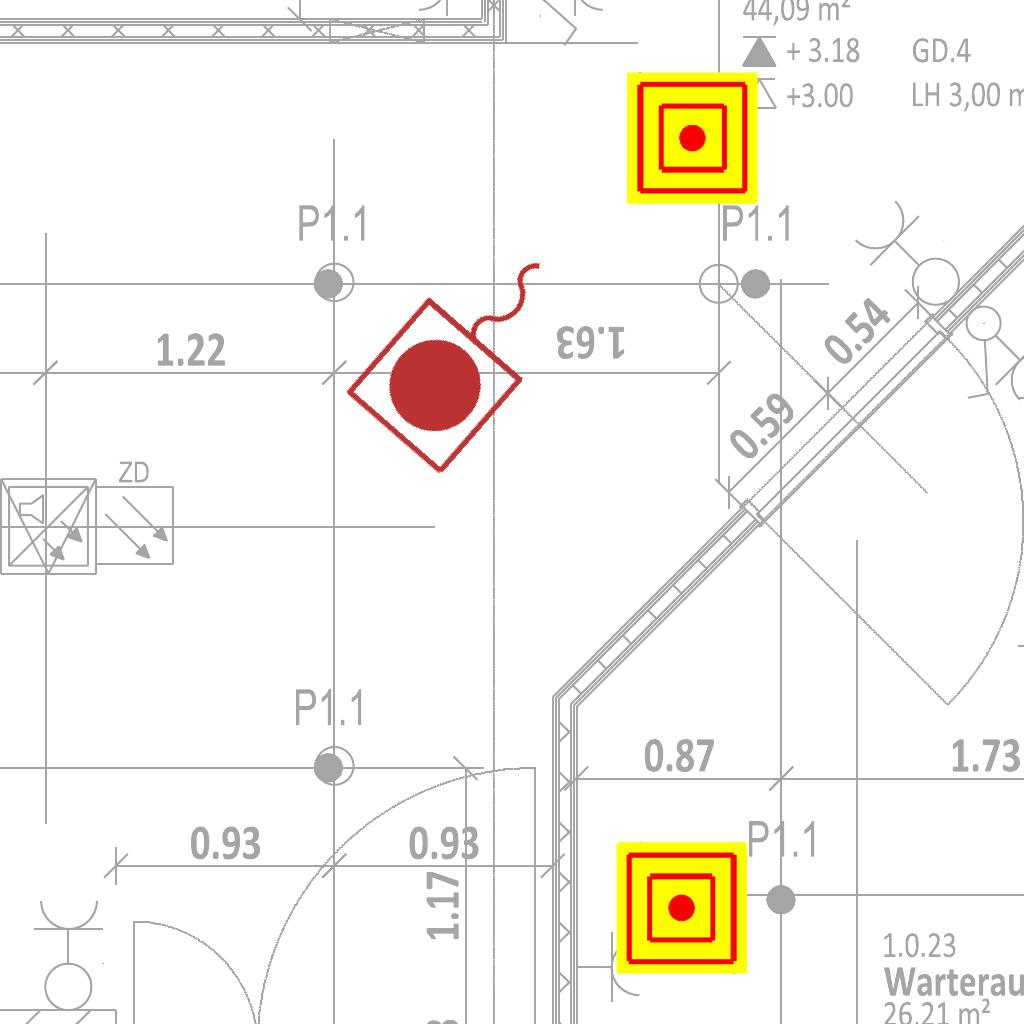NAM-Nichtautomatischer_Melder: (626, 72, 758, 204), (616, 842, 748, 974)
Zugtaster: (334, 209, 604, 489)
